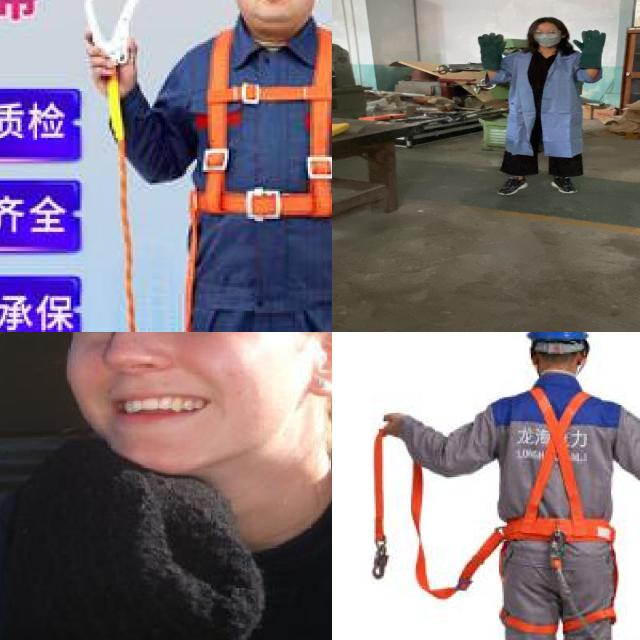Harness: (179, 23, 332, 332), (492, 386, 618, 635)
face_mask: (532, 27, 564, 46)
face_nomask: (47, 332, 321, 463)
glasses: (531, 28, 563, 36)
hand_glove: (568, 29, 610, 55), (476, 31, 510, 59)
head_nohelmet: (528, 16, 566, 29)
person: (0, 332, 332, 640), (472, 15, 611, 201)
shoes: (495, 176, 530, 199), (545, 173, 578, 194)
